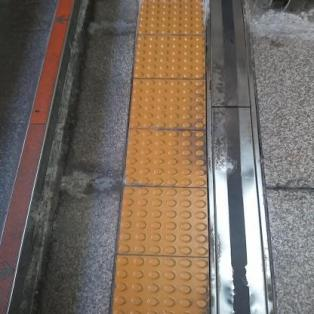Podoctatil: (98, 0, 224, 313)
